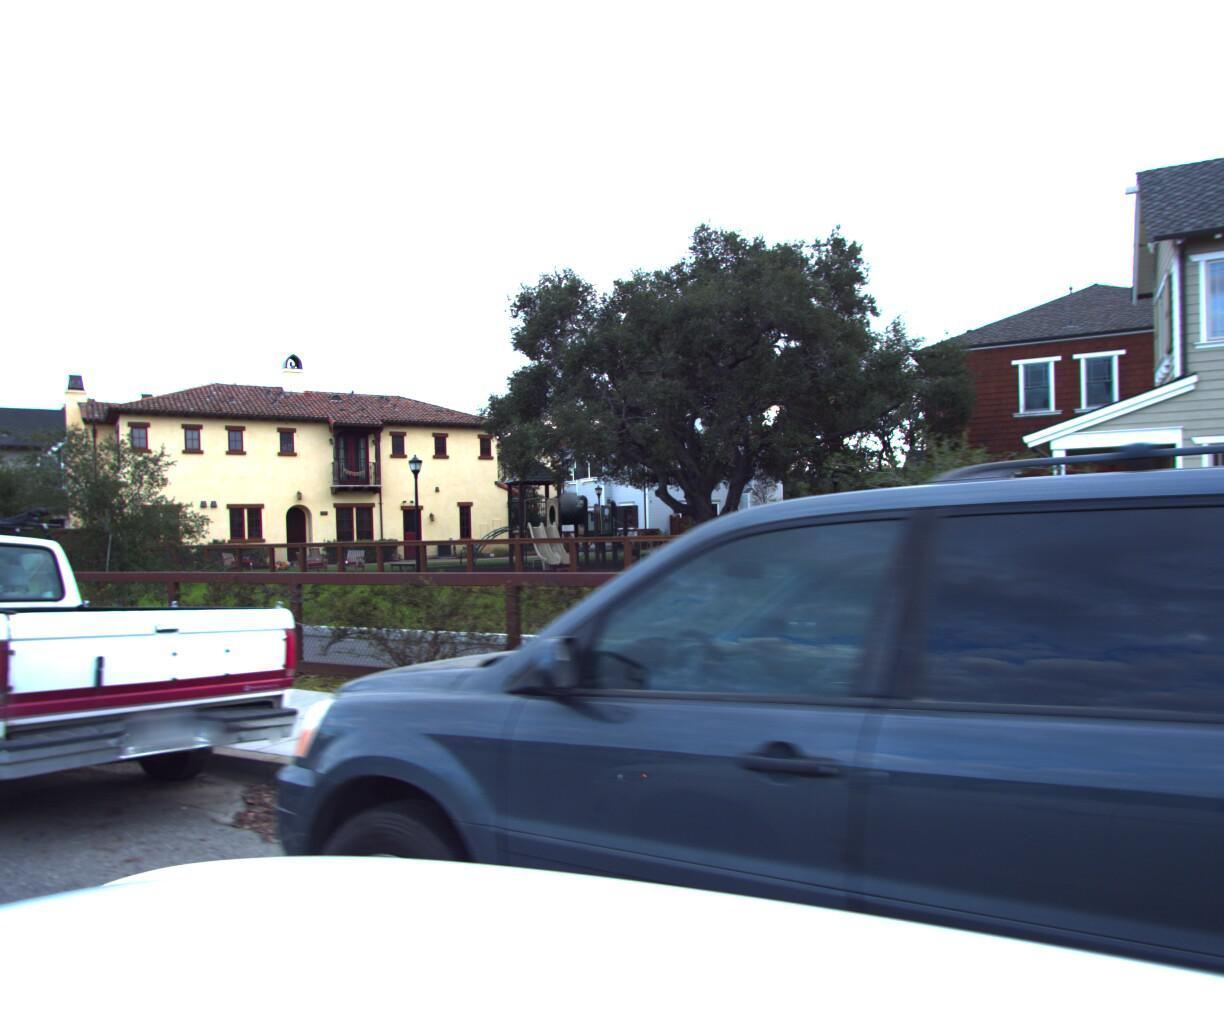car: (148, 264, 1224, 1024), (0, 480, 319, 911)
